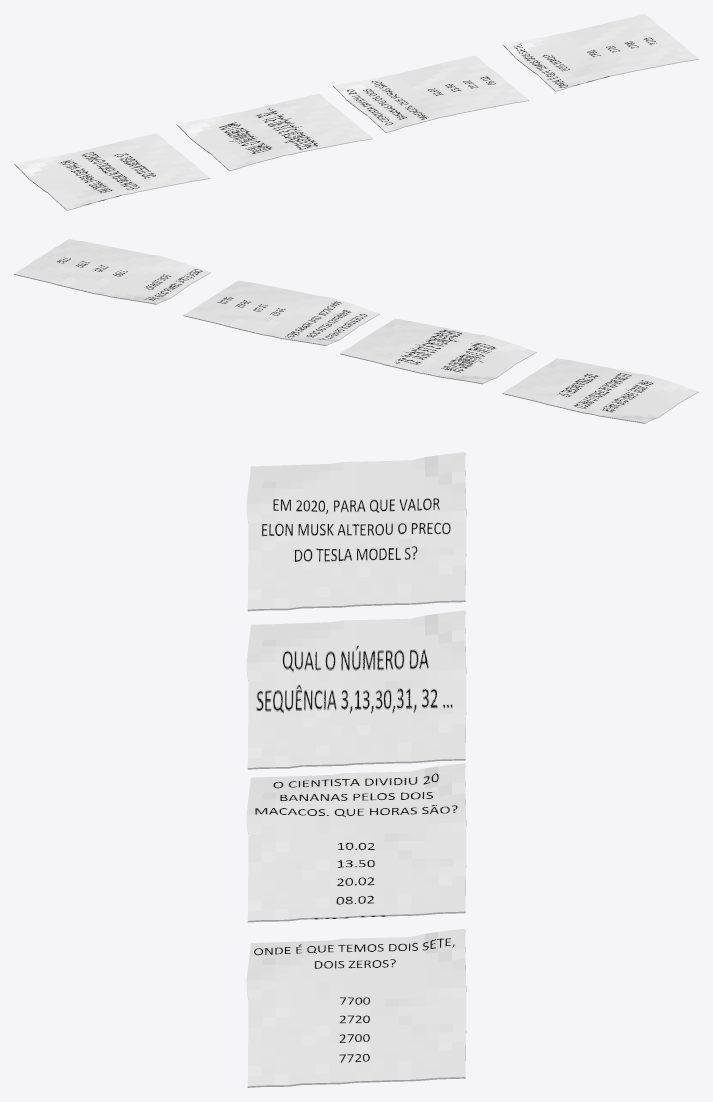
File: EnigmaPaper.fbx
3 renders of one model, top to bottom at view 1: azimuth 30°, elevation 25°; view 2: azimuth 150°, elevation 25°; view 3: azimuth 270°, elevation 25°, orthographic. The views are drawn at different scales.
Parts seen in each view (by area): view 1: Papel3, Papel1, Papel2, Papel4; view 2: Papel1, Papel4, Papel3, Papel2; view 3: Papel3, Papel1, Papel2, Papel4.
Part boxes in pixels (x1,y1,x2,y2): Papel3: (14,133,210,210); Papel1: (176,93,372,171); Papel2: (333,55,529,132); Papel4: (502,14,698,91); Papel1: (340,318,536,384); Papel4: (14,239,210,304); Papel3: (502,358,698,423); Papel2: (183,280,379,345); Papel3: (246,452,466,611); Papel1: (246,610,466,769); Papel2: (246,763,466,922); Papel4: (246,928,466,1087).
Bounding box in the file's own units: 35.44 × 0.5536 × 5.35.
4 materials, 4 textured.
